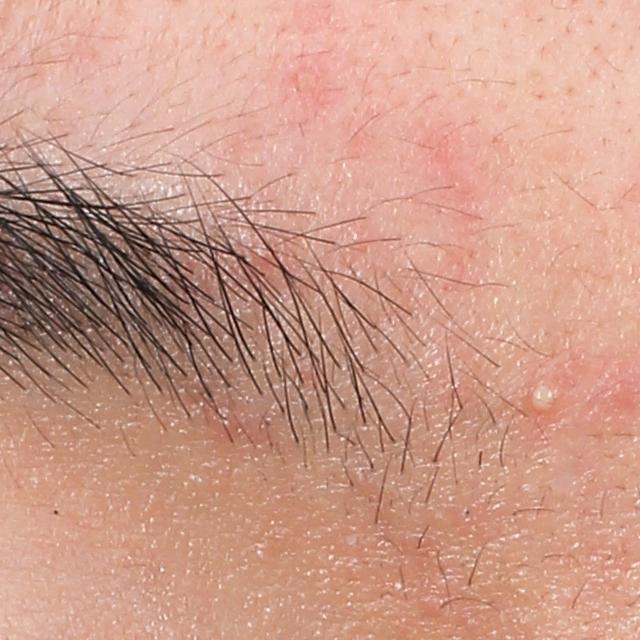pustule: (521, 372, 562, 422)
